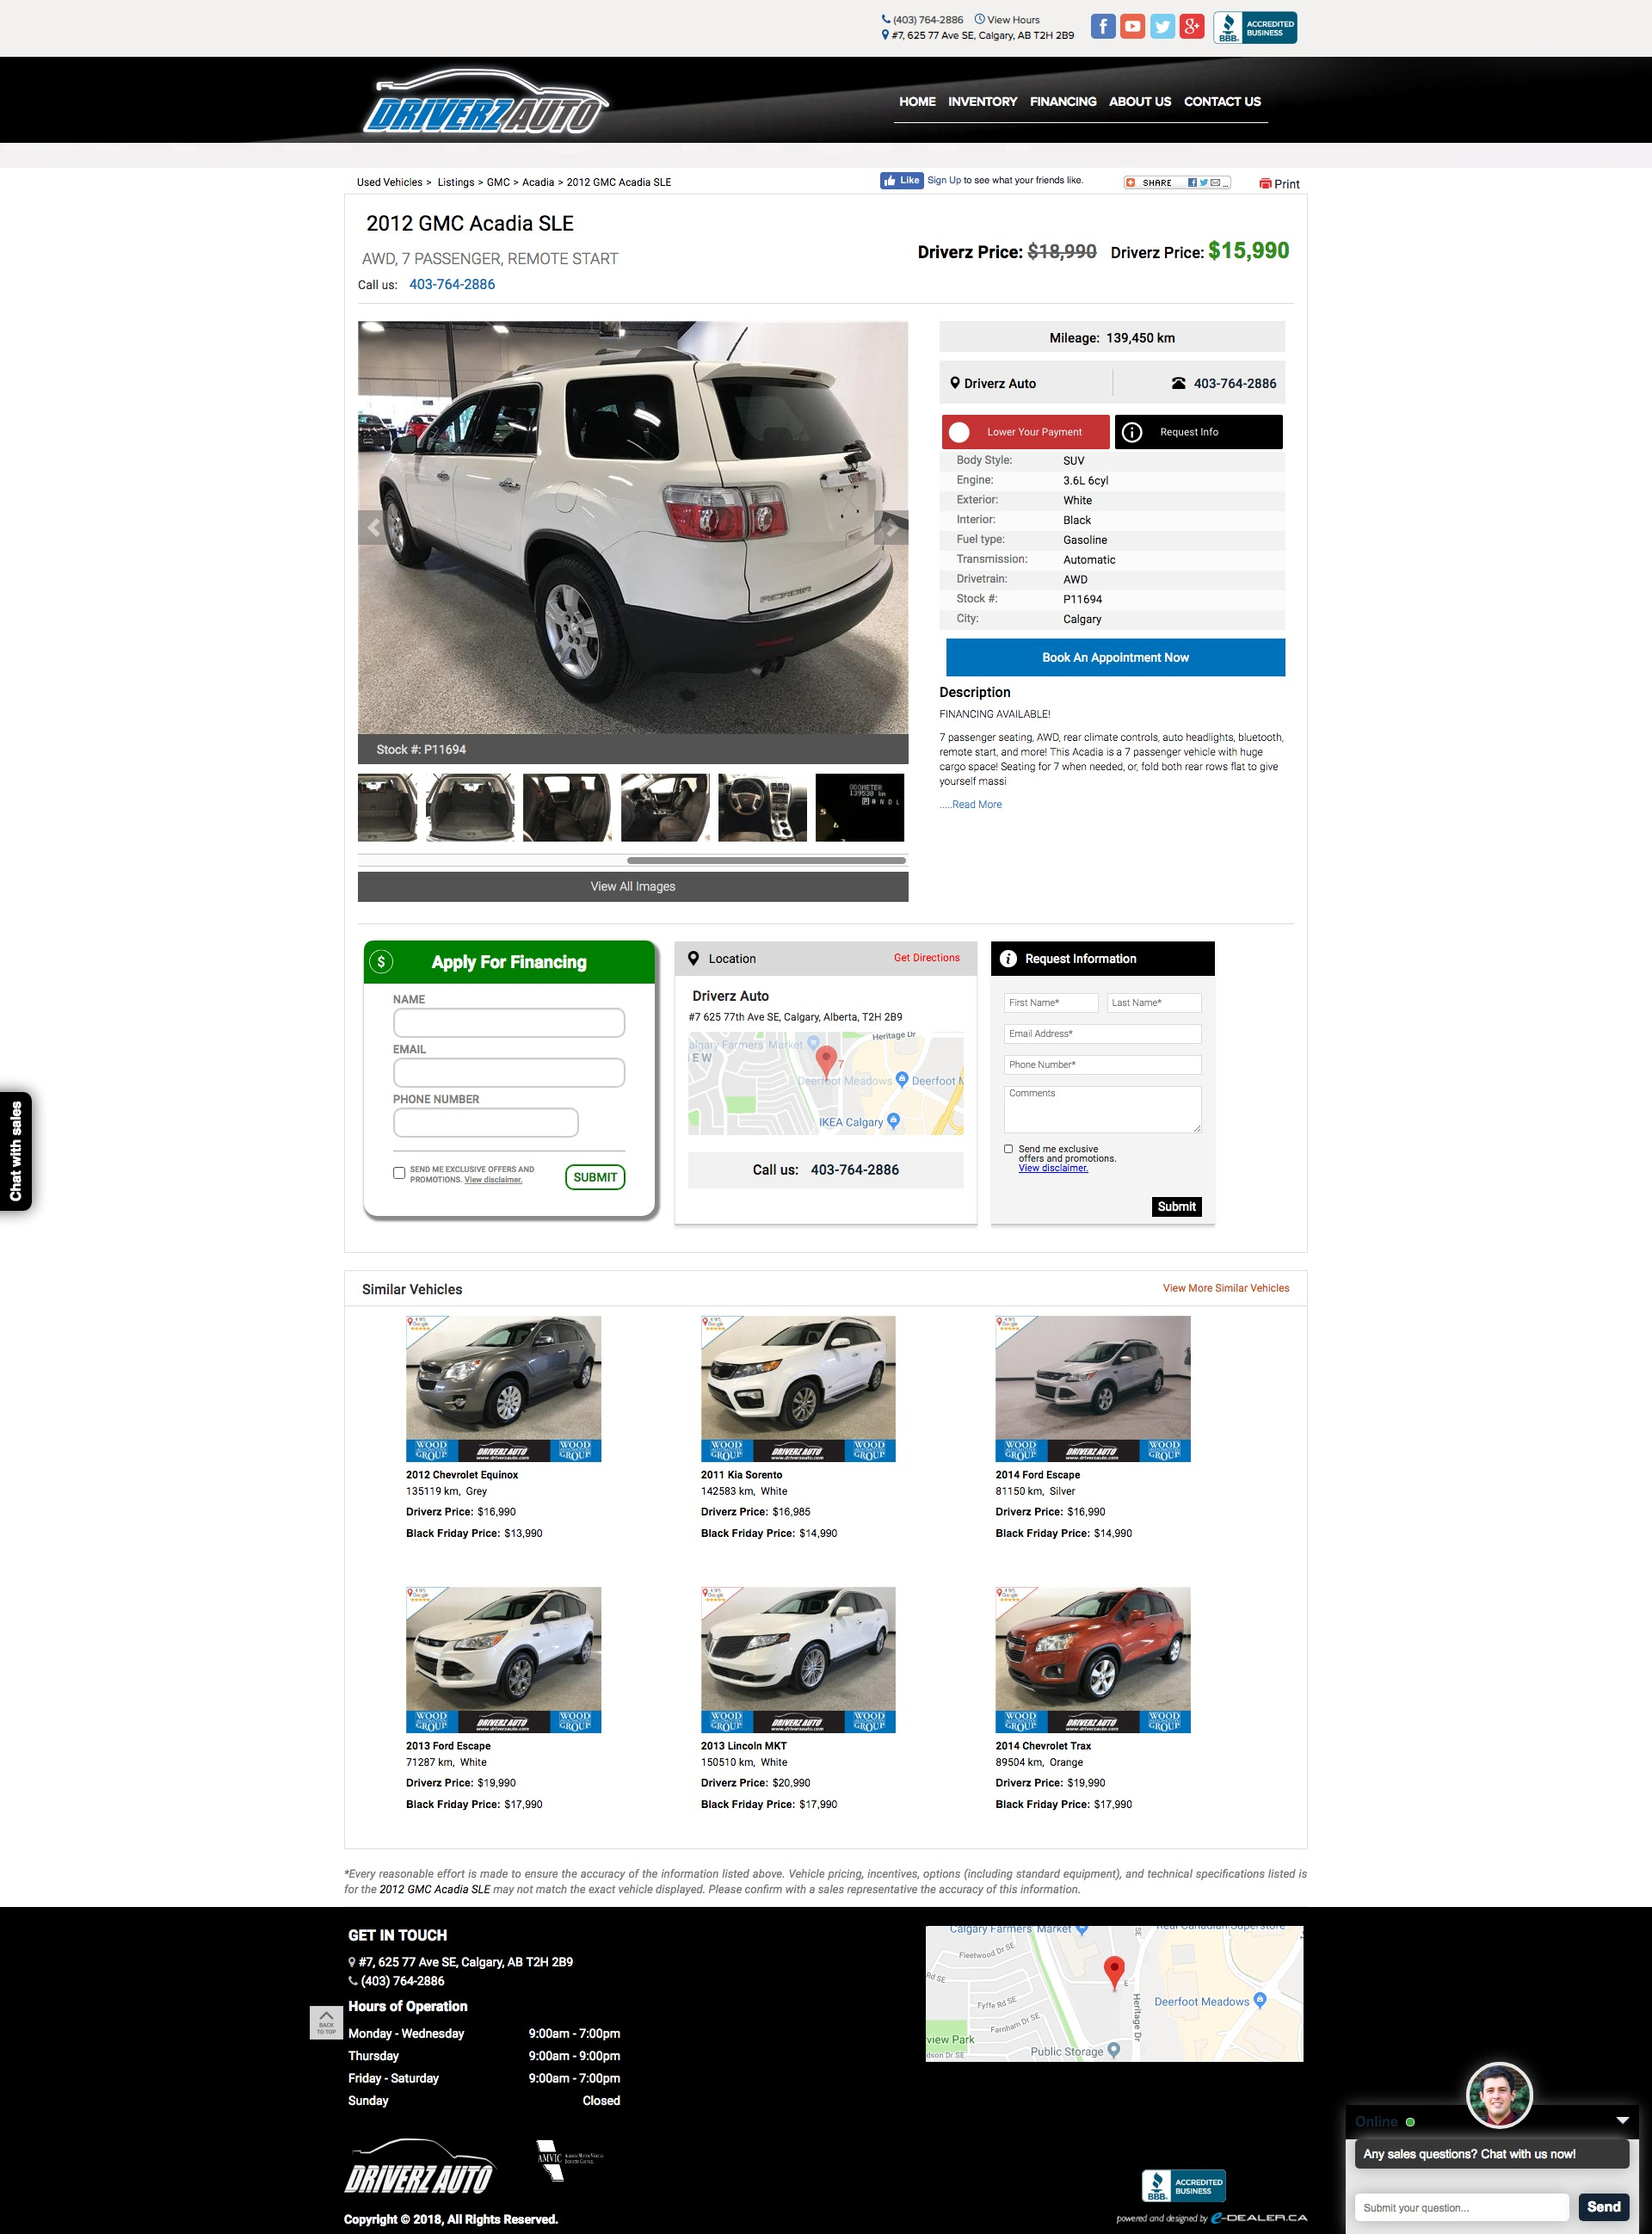car: (873, 509, 911, 545)
